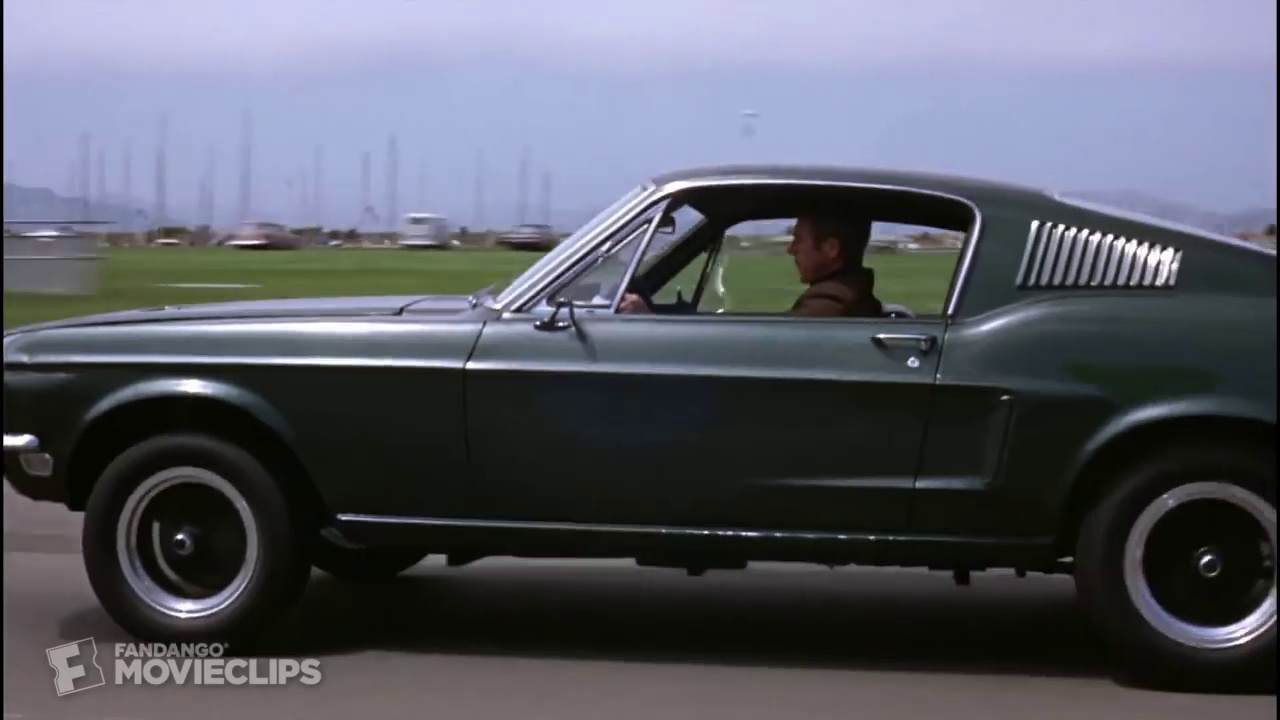car: (3, 156, 1280, 694), (218, 214, 311, 252), (489, 216, 566, 258), (393, 205, 454, 255)
person: (778, 189, 884, 325)
